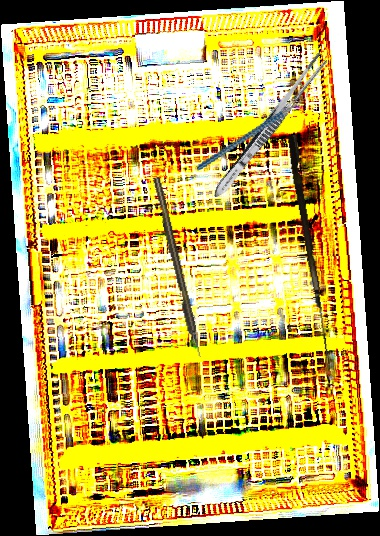Chopper: (184, 86, 324, 171)
Dressing Forceps: (209, 49, 330, 203)
Hook Surgical: (283, 134, 339, 357), (152, 176, 203, 359)
